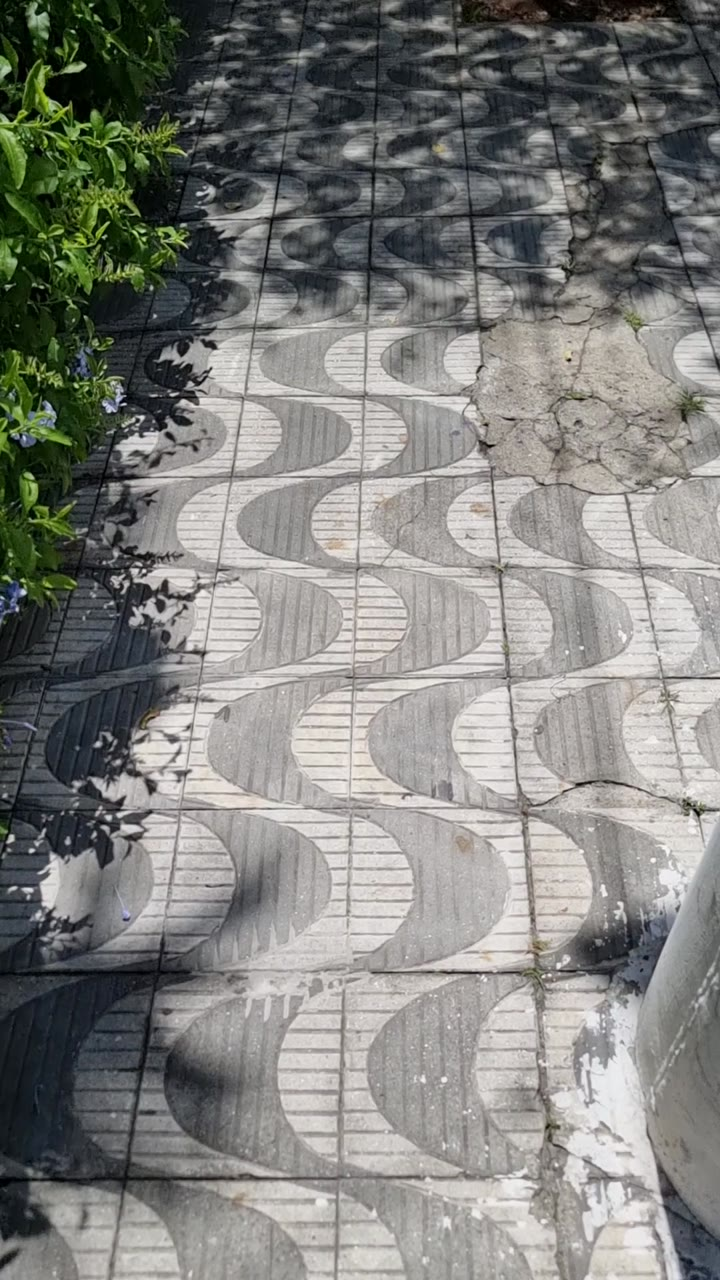obstaculo: (648, 666, 720, 1216)
